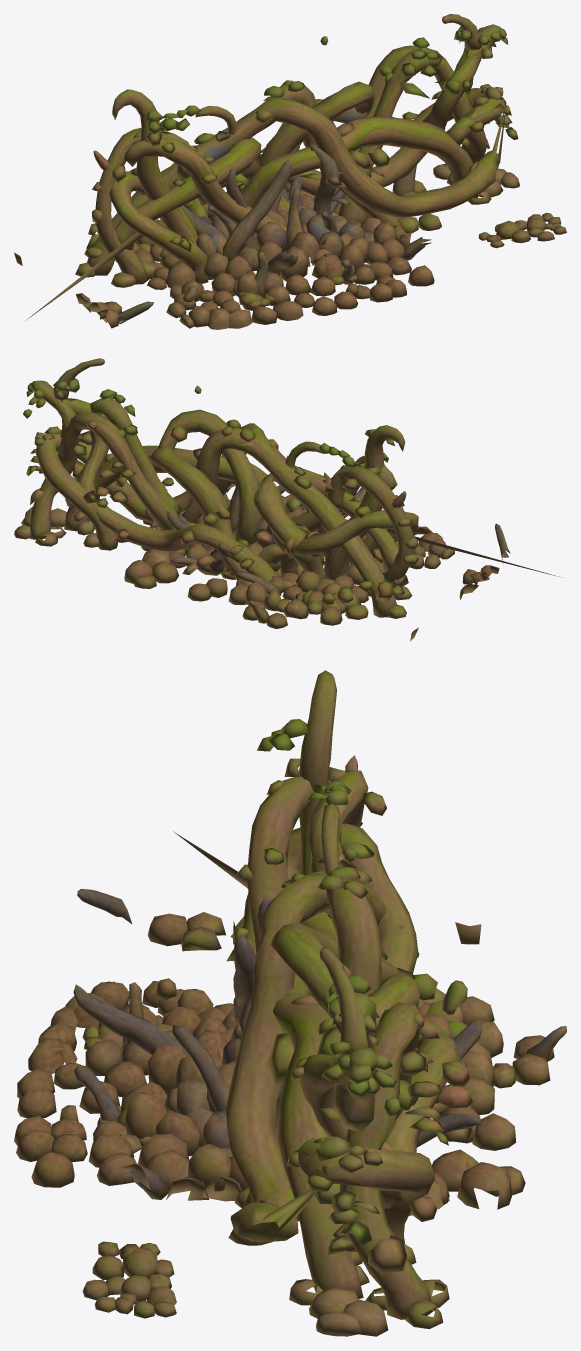
The model's file is enredadera_espinosa.glb.
The picture shows the model from 3 angles, top to bottom: view 1: azimuth 30°, elevation 25°; view 2: azimuth 150°, elevation 25°; view 3: azimuth 270°, elevation 25°; orthographic projection. The views are drawn at different scales.
Visible parts, largest first — view 1: viva, quemada; view 2: viva, quemada; view 3: viva, quemada.
Boxes of the visible parts, <box> form: viva: <box>14,14,566,328</box>; quemada: <box>135,143,434,329</box>; viva: <box>14,358,560,641</box>; quemada: <box>124,456,454,628</box>; viva: <box>77,670,503,1336</box>; quemada: <box>14,896,566,1209</box>.
Bounding box in the file's own units: 0.7673 × 0.2604 × 0.3912.
Materials: 1 (1 with a texture image).
